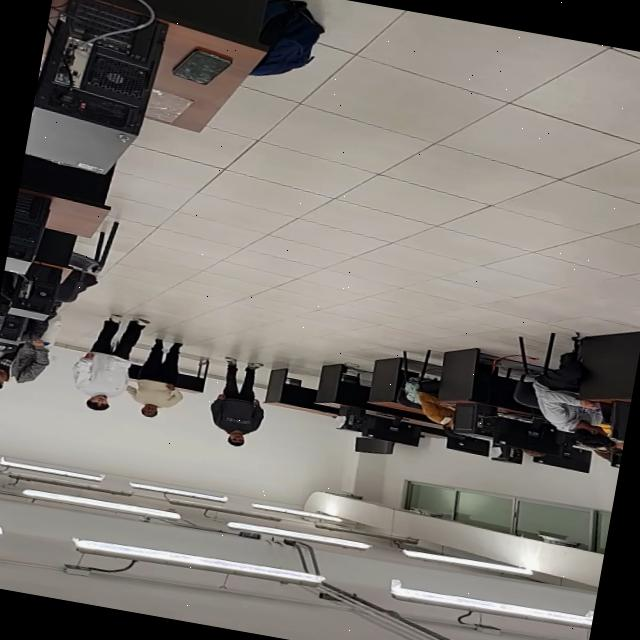Persona: (66, 308, 152, 418), (204, 355, 274, 450), (122, 334, 194, 423)
